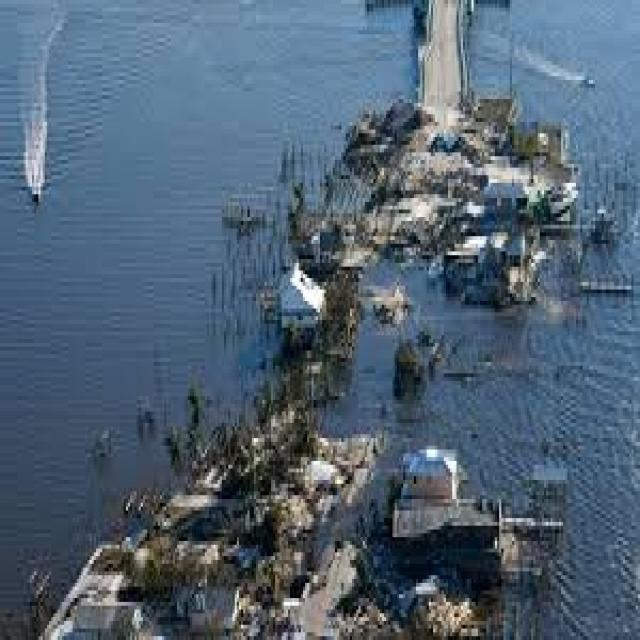Hurricane: (266, 151, 629, 619)
